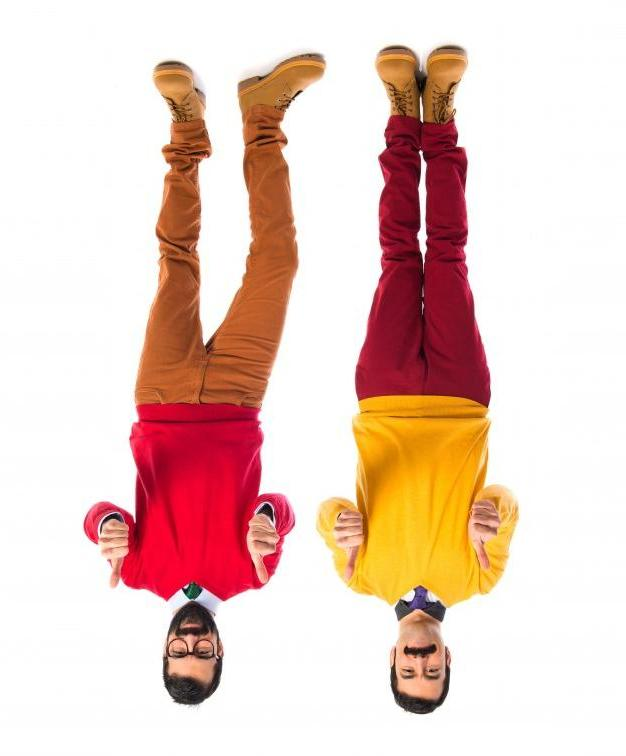thumbsdown: (248, 513, 280, 584), (470, 500, 501, 569), (334, 510, 363, 581), (99, 521, 129, 589)
